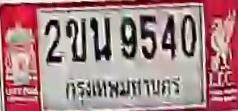0: (180, 13, 197, 57)
2: (44, 18, 61, 62)
4: (161, 14, 177, 60)
5: (139, 14, 158, 60)
9: (119, 16, 137, 59)
A02: (65, 17, 87, 62)
A25: (89, 16, 113, 62)
BKK: (61, 74, 182, 105)
